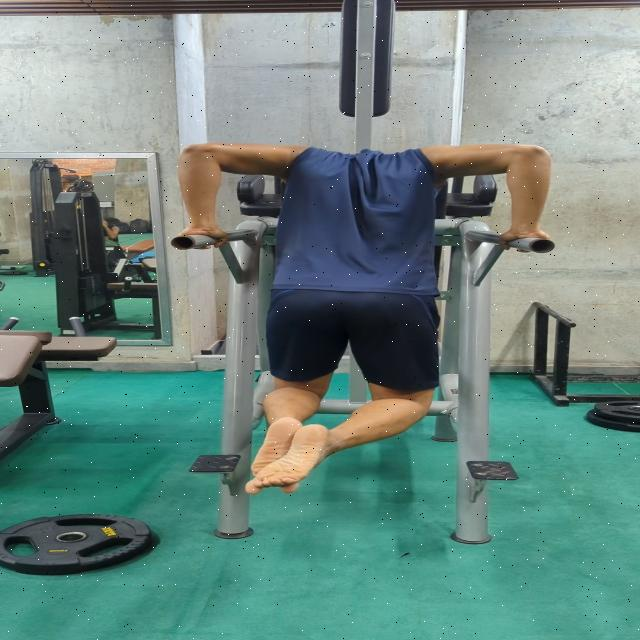Normal_Dips: (160, 136, 566, 496)
